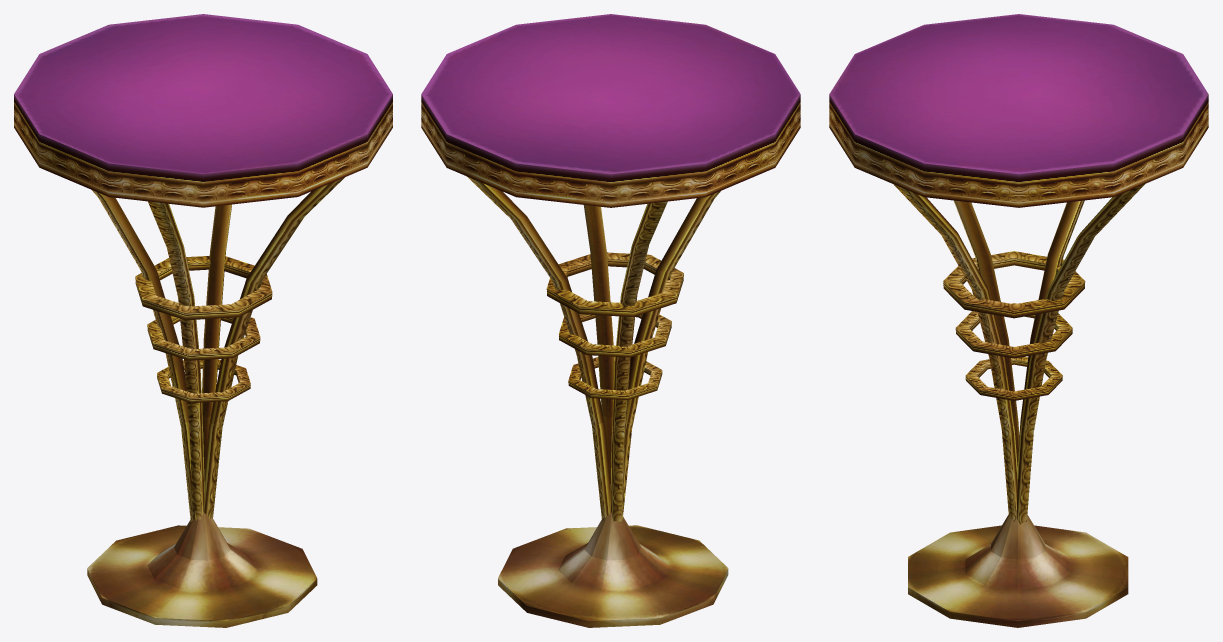
The model's file is furni_0200719.FBX.
3 views of the same model, side by side, from view 1: azimuth 30°, elevation 25°; view 2: azimuth 150°, elevation 25°; view 3: azimuth 270°, elevation 25° (orthographic).
Parts seen in each view (by area): view 1: furni_0200719; view 2: furni_0200719; view 3: furni_0200719.
Boxes of the visible parts, x1=… form: furni_0200719: x1=14, y1=14, x2=392, y2=627; furni_0200719: x1=421, y1=14, x2=800, y2=627; furni_0200719: x1=829, y1=14, x2=1208, y2=627.
Bounding box in the file's own units: 84.99 × 120 × 84.99.
Materials: 1 (1 with a texture image).
